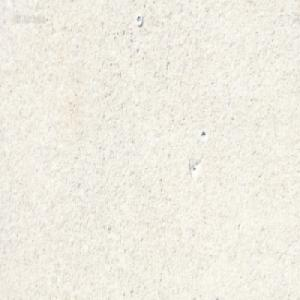Washer: (135, 13, 142, 27)
